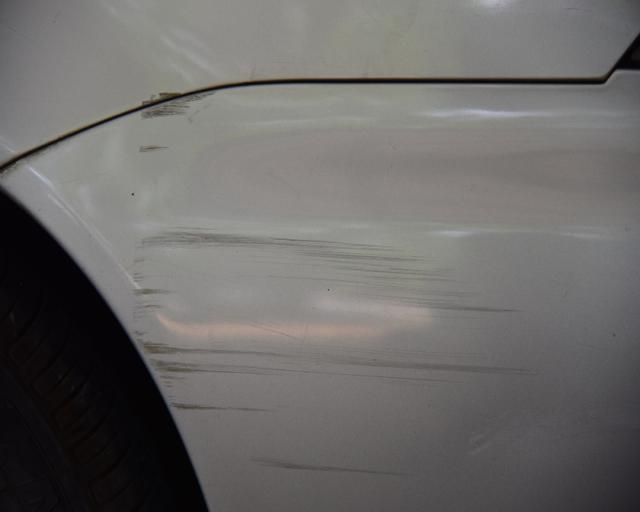scratch: (130, 90, 533, 485)
